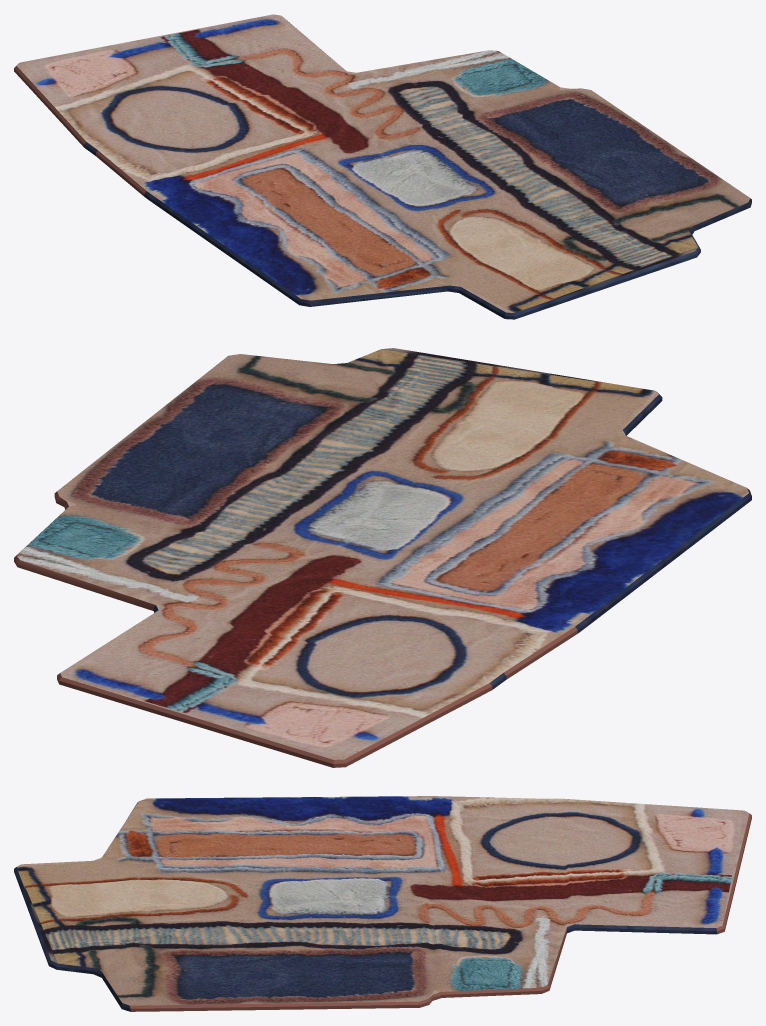
File: _arpet1.0.fbx
3 views of the same model, one above another, from view 1: azimuth 30°, elevation 25°; view 2: azimuth 150°, elevation 25°; view 3: azimuth 270°, elevation 25° (orthographic). The views are drawn at different scales.
Visible parts, largest first — view 1: Box001; view 2: Box001; view 3: Box001.
Part boxes in pixels (<box>): Box001: <box>14,14,751,319</box>; Box001: <box>14,348,751,767</box>; Box001: <box>14,796,751,1011</box>.
Size of the model in its own units: 182 by 2.11 by 268.
Materials: 2 (1 with a texture image).
